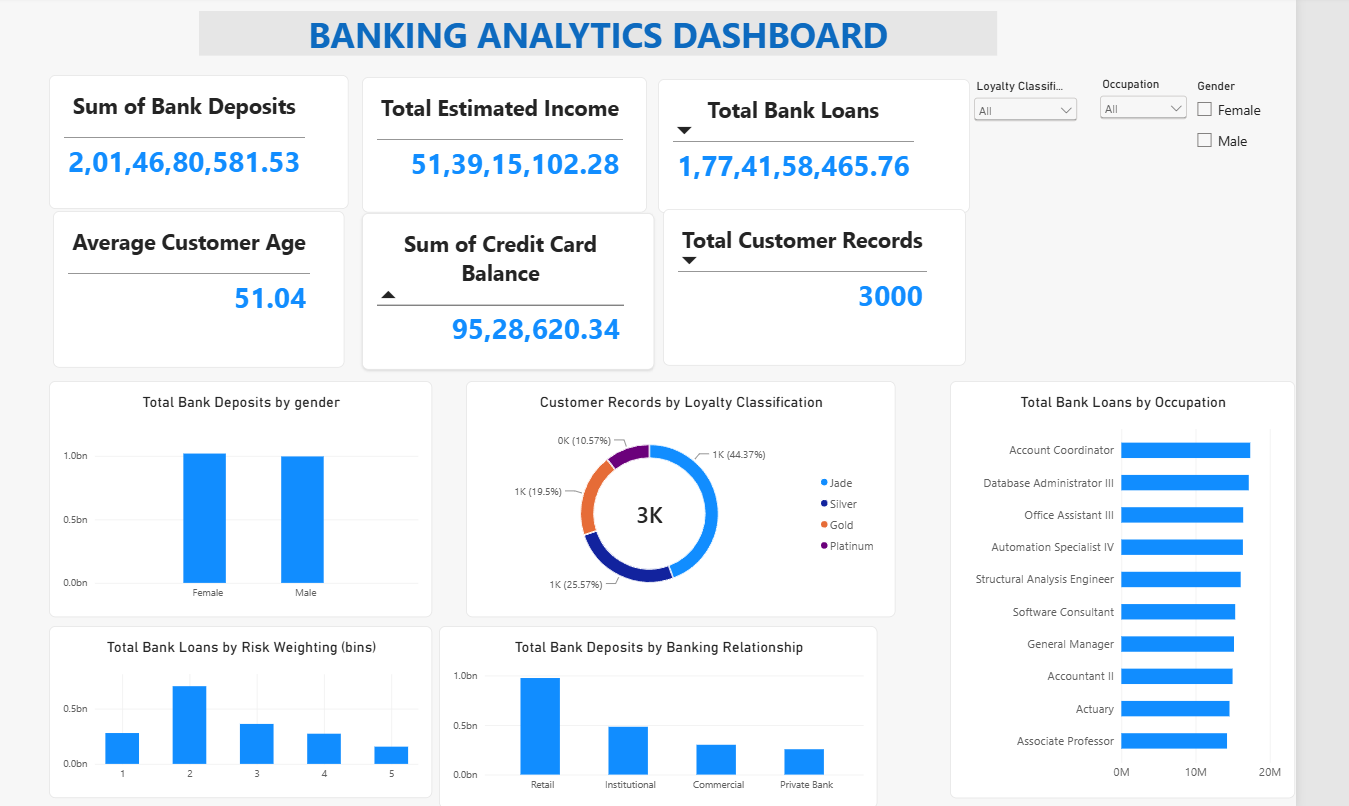

The dashboard page shown, as its layout file describes it:
{"tool":"powerbi","page":{"name":"Page 1","canvas":[1600,1000],"ordinal":0},"visuals":[{"type":"clusteredColumnChart","title":"Total Bank Deposits by gender","fields":{"Category":["Banking_Clients.Gender"],"Y":["Banking_Clients.Total Bank Deposits"]},"box":[65.3,472.9,471.7,290.6],"z":0},{"type":"clusteredBarChart","title":"Total Bank Loans by Occupation","fields":{"Category":["Banking_Clients.Occupation"],"Y":["Banking_Clients.Total Bank Loans"]},"box":[1174.9,472.9,424.9,513.5],"z":1000},{"type":"donutChart","title":"Customer Records by Loyalty Classification","fields":{"Category":["Banking_Clients.Loyalty Classification"],"Y":["Banking_Clients.Total Customer Records"]},"box":[578.8,472.9,528.8,291.2],"z":2000},{"type":"clusteredColumnChart","title":"Total Bank Deposits by Banking Relationship","fields":{"Category":["Banking_Clients.Banking Relationship"],"Y":["Banking_Clients.Total Bank Deposits"]},"box":[545,775,540,225],"z":3000},{"type":"clusteredColumnChart","fields":{"Category":["Banking_Clients.Risk Weighting (bins)"],"Y":["Banking_Clients.Total Bank Loans"]},"box":[65.3,774.6,471.7,211.8],"z":4000},{"type":"slicer","fields":{"Values":["Banking_Clients.Gender"]},"box":[1471.7,101,128.1,165],"z":5000},{"type":"slicer","fields":{"Values":["Banking_Clients.Occupation"]},"box":[1354.7,98.5,117,179.8],"z":6000},{"type":"slicer","fields":{"Values":["Banking_Clients.Loyalty Classification"]},"box":[1199.5,101,136.7,156.4],"z":7000},{"type":"textbox","title":"BANKING ANALYTICS DASHBOARD","box":[250,17.2,982.8,55.4],"z":8000},{"type":"tableEx","fields":{"Values":["Banking_Clients.Total Bank Loans"]},"box":[815.3,101,384.2,165],"z":9000},{"type":"tableEx","fields":{"Values":["Banking_Clients.Total Customer Records"]},"box":[821.4,261.1,372.5,192.5],"z":10000},{"type":"tableEx","fields":{"Values":["Banking_Clients.Average Customer Age"]},"box":[70.2,263.5,358.8,192.5],"z":11000},{"type":"tableEx","fields":{"Values":["Sum(Banking_Clients.Credit Card Balance)"]},"box":[450.7,266,360,192.5],"z":12000},{"type":"tableEx","fields":{"Values":["Sum(Banking_Clients.Bank Deposits)"]},"box":[65.3,96.1,368.8,165],"z":13000},{"type":"tableEx","fields":{"Values":["Banking_Clients.Total Estimated Income"]},"box":[450.7,98.5,351,167.5],"z":13001}]}

Visuals, with their boxes in screenshot pixels (x1, y1, x2, y2):
"Total Bank Deposits by gender" clusteredColumnChart: <box>178,403,553,634</box>
"Total Bank Loans by Occupation" clusteredBarChart: <box>1059,403,1348,805</box>
"Customer Records by Loyalty Classification" donutChart: <box>586,403,1005,634</box>
"Total Bank Deposits by Banking Relationship" clusteredColumnChart: <box>559,643,987,805</box>
clusteredColumnChart - Banking_Clients.Risk Weighting (bins) x Banking_Clients.Total Bank Loans: <box>178,643,553,805</box>
slicer - Banking_Clients.Gender: <box>1294,108,1348,239</box>
slicer - Banking_Clients.Occupation: <box>1201,106,1294,249</box>
slicer - Banking_Clients.Loyalty Classification: <box>1078,108,1187,232</box>
"BANKING ANALYTICS DASHBOARD" textbox: <box>325,42,1105,86</box>
tableEx - Banking_Clients.Total Bank Loans: <box>773,108,1078,239</box>
tableEx - Banking_Clients.Total Customer Records: <box>778,235,1074,388</box>
tableEx - Banking_Clients.Average Customer Age: <box>182,237,467,390</box>
tableEx - Sum(Banking_Clients.Credit Card Balance): <box>484,239,770,392</box>
tableEx - Sum(Banking_Clients.Bank Deposits): <box>178,104,471,235</box>
tableEx - Banking_Clients.Total Estimated Income: <box>484,106,763,239</box>
